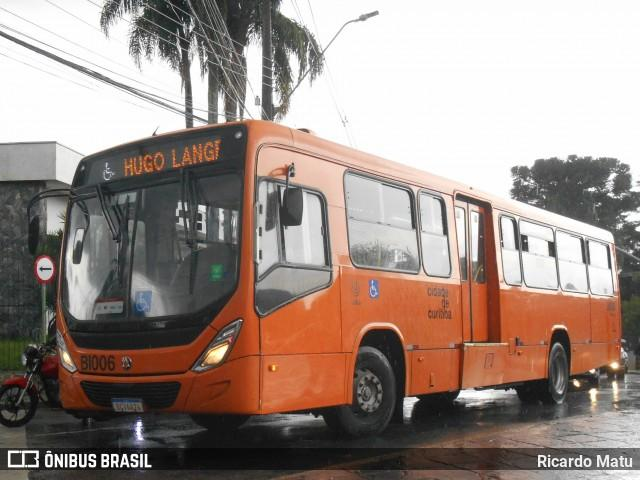HUGO LANGE: (116, 134, 224, 182)
